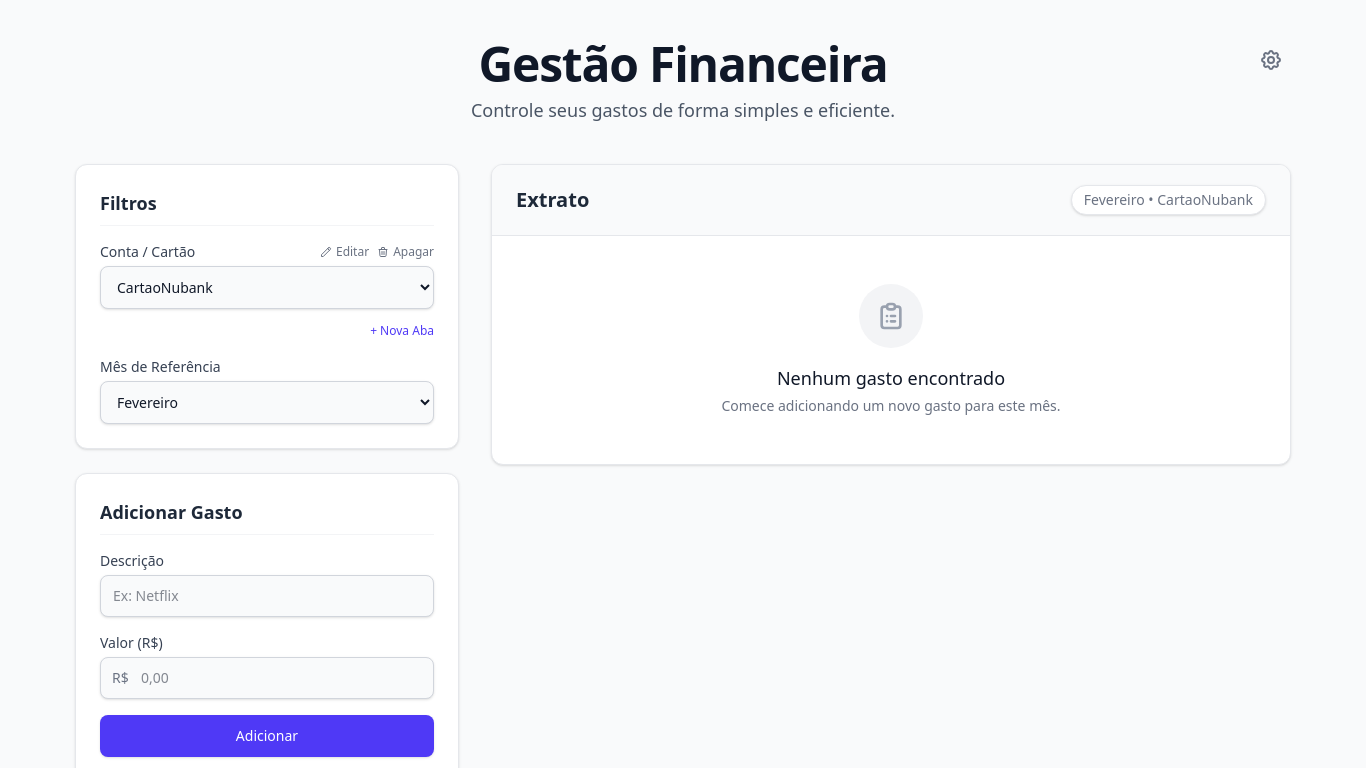
Test: App Component › updates mes when selector changes
The image size is (1366, 768).
Select "Março" in the dropdown labelled "Mês de Referência": {"x": 267, "y": 402} [100, 381, 434, 424]
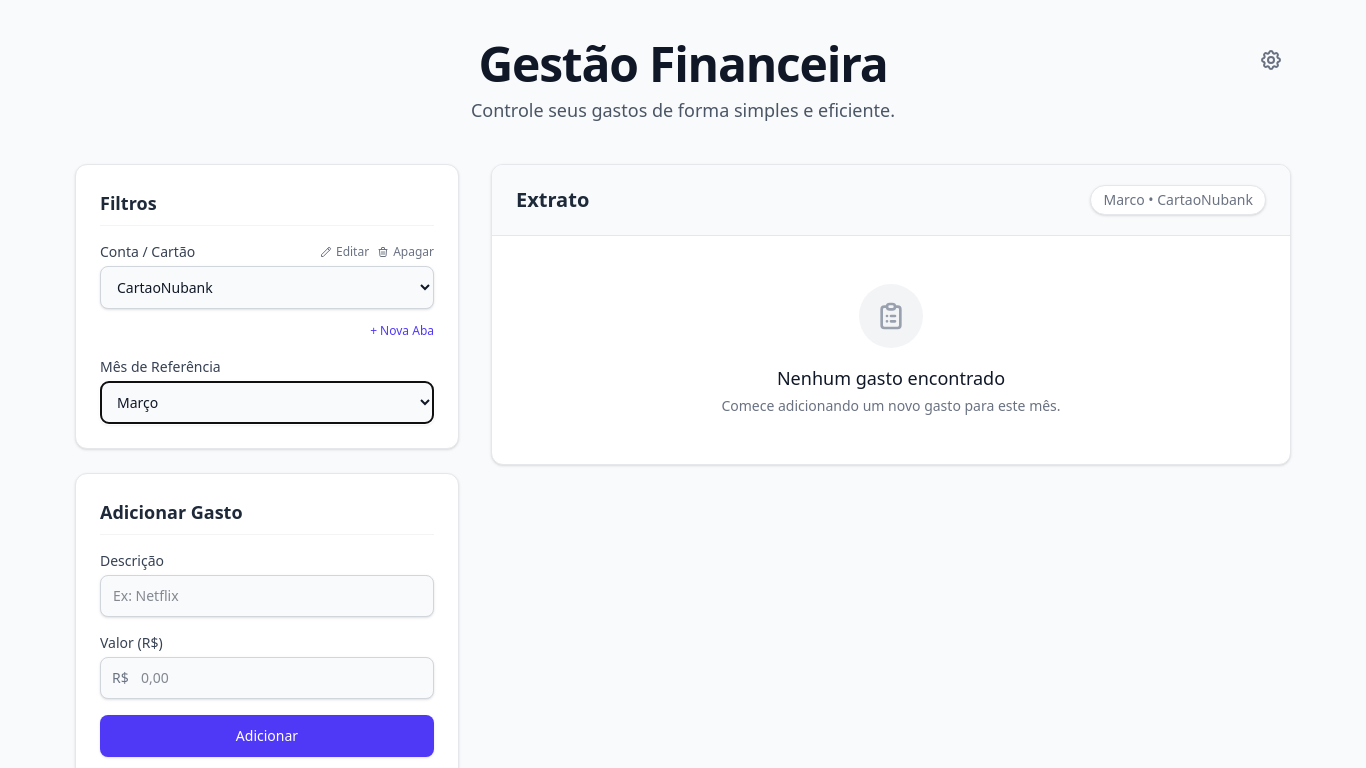
Now the text "Marco • CartaoNubank" is shown, box [1090, 185, 1266, 215]
